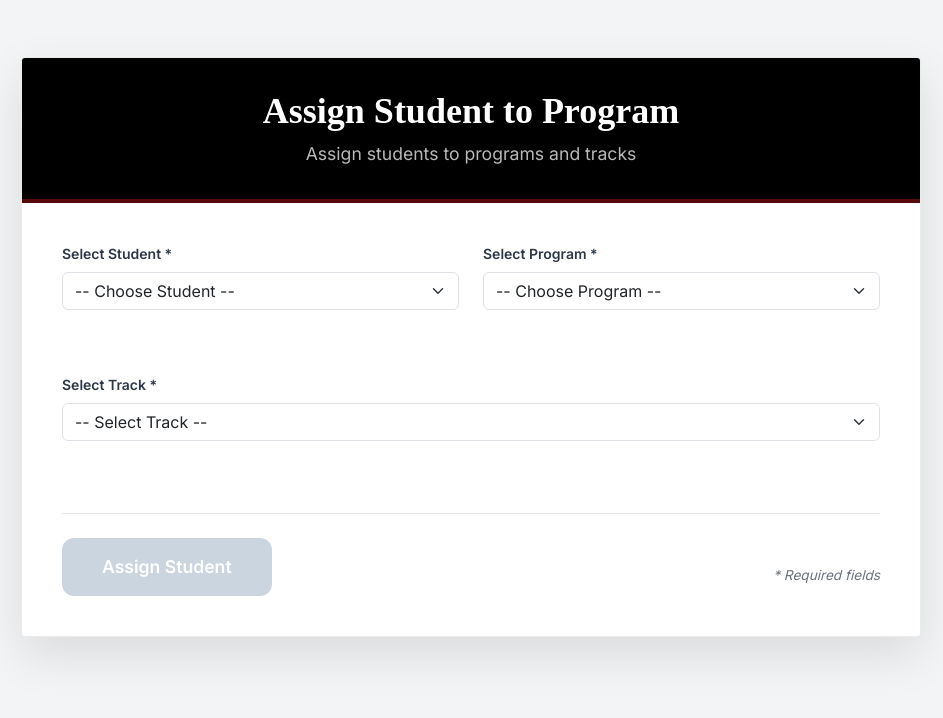
Scenario: assigns a student only after programme and track are selected
Select "Test Student" in the dropdown below "Select Student *". click: (260,291)
box: [62,272,459,310]
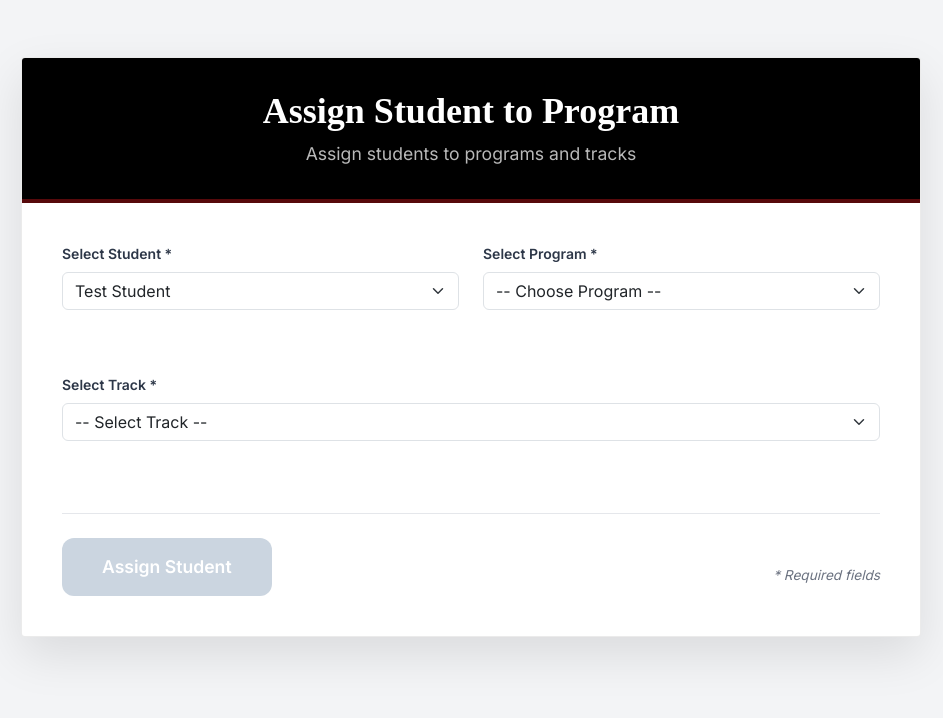
Expected: the button "Assign Student" is disabled, [62,538,272,596]
Select "Graduate Program" in the dropdown below "Select Program *". click: (682,291)
box: [483,272,880,310]
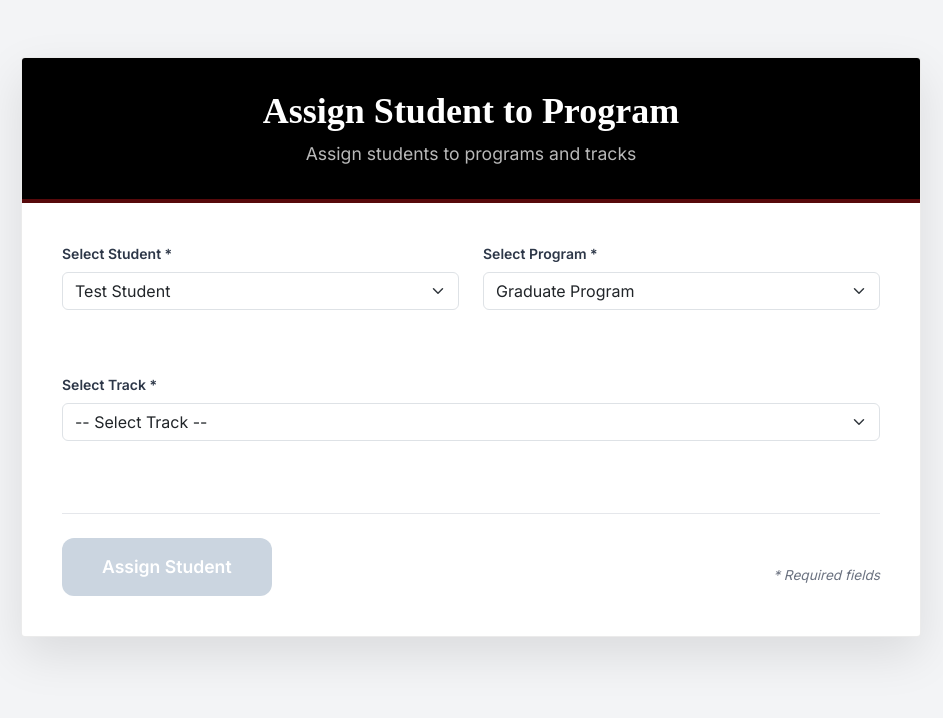
Expected: the button "Assign Student" is disabled, [62,538,272,596]
Select "Web Development" in the dropdown below "Select Track *". click: (471,422)
box: [62,403,880,441]
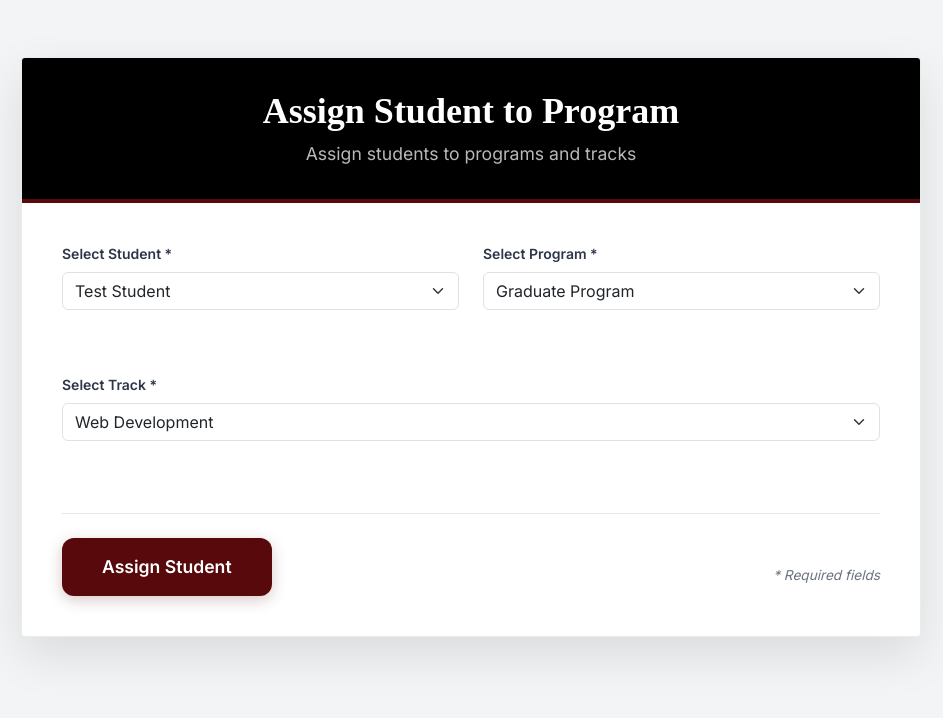
Result: the button "Assign Student" is enabled
Click the button "Assign Student". click: (167,567)
box: [62,538,272,596]
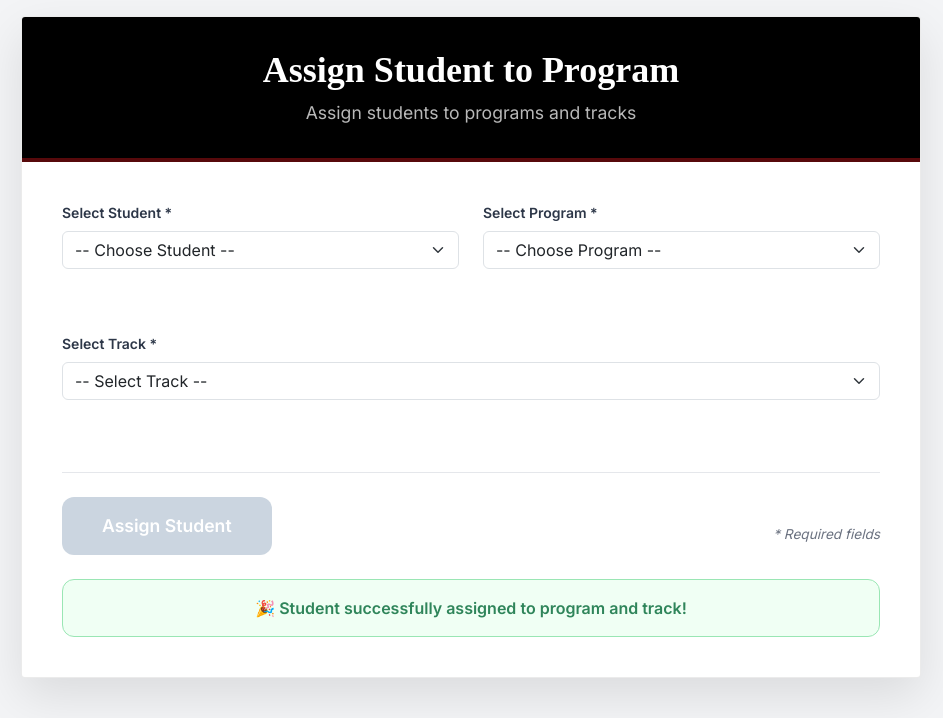
Result: the text "🎉 Student successfully assigned to program and track!" is shown at [62,580,880,638]
